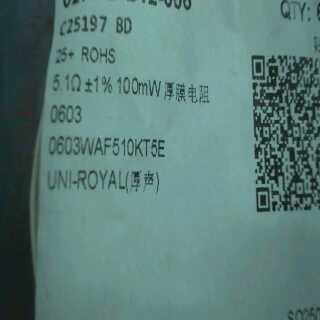5.1R: (49, 71, 83, 98)
